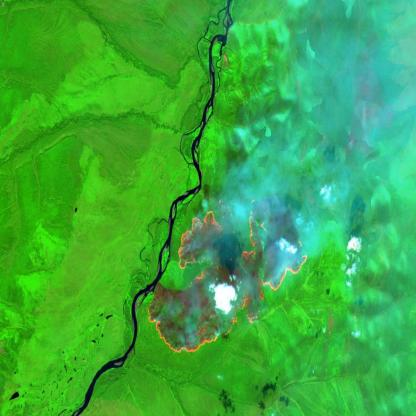fire: (147, 198, 309, 354)
